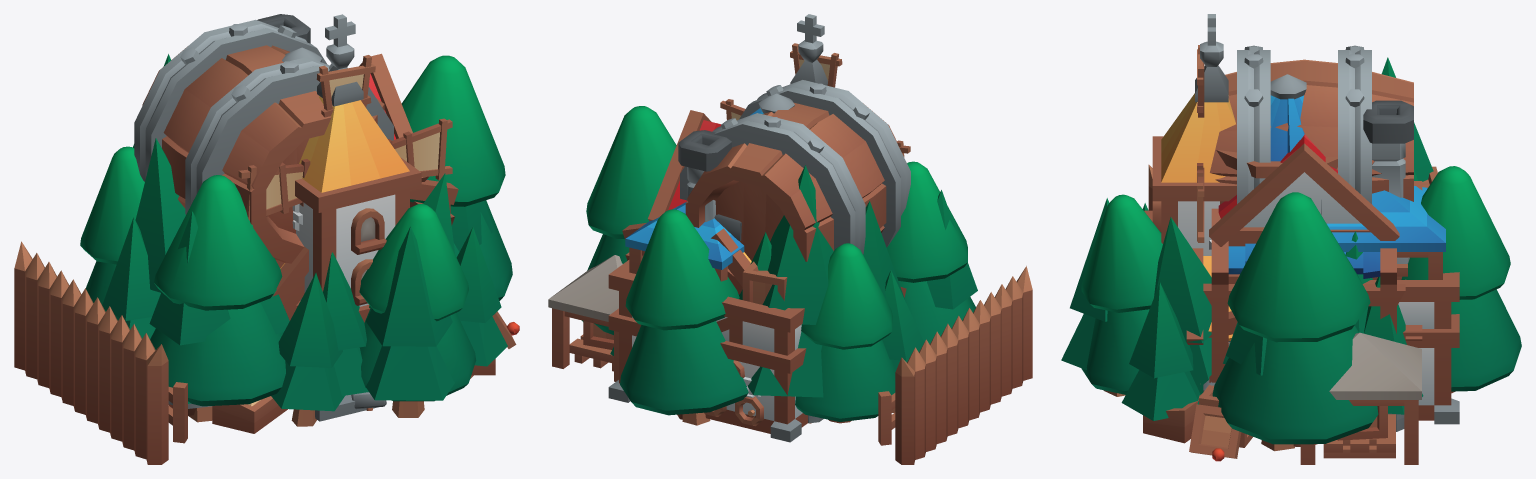
The model's file is village.glb.
3 views of the same model, side by side, from view 1: azimuth 30°, elevation 25°; view 2: azimuth 150°, elevation 25°; view 3: azimuth 270°, elevation 25° (orthographic). The views are drawn at different scales.
Visible parts, largest first — view 1: trees_B_medium, building_tavern_blue, trees_A_medium, fence_wood_straight, building_church_yellow, trees_A_small, building_windmill_top_fan_blue, building_market_blue, building_home_B_red; view 2: trees_B_medium, building_tavern_blue, building_market_blue, fence_wood_straight, trees_A_medium, building_home_B_red, building_church_yellow, trees_A_small, building_windmill_top_fan_blue, building_windmill_top_blue; view 3: trees_B_medium, building_market_blue, building_tavern_blue, building_home_B_red, trees_A_medium, building_church_yellow, trees_A_small, building_windmill_top_blue, building_windmill_top_fan_blue.
Part boxes in pixels (box(x1,y1,x2,y2)): trees_B_medium: box(80, 55, 512, 406); building_tavern_blue: box(134, 19, 458, 421); trees_A_medium: box(102, 54, 507, 426); fence_wood_straight: box(14, 241, 168, 464); building_church_yellow: box(273, 14, 421, 322); trees_A_small: box(135, 138, 454, 395); building_windmill_top_fan_blue: box(238, 55, 452, 225); building_market_blue: box(168, 311, 519, 443); building_home_B_red: box(257, 14, 428, 216); trees_B_medium: box(582, 106, 975, 423); building_tavern_blue: box(622, 80, 910, 426); building_market_blue: box(548, 202, 895, 445); fence_wood_straight: box(895, 266, 1032, 464); trees_A_medium: box(610, 165, 977, 425); building_home_B_red: box(648, 110, 731, 221); building_church_yellow: box(711, 14, 827, 286); trees_A_small: box(738, 201, 905, 301); building_windmill_top_fan_blue: box(720, 43, 910, 157); building_windmill_top_blue: box(750, 93, 794, 115); trees_B_medium: box(1081, 166, 1521, 446); building_market_blue: box(1143, 166, 1459, 464); building_tavern_blue: box(1203, 45, 1413, 431); building_home_B_red: box(1209, 100, 1413, 283); trees_A_medium: box(1061, 57, 1433, 451); building_church_yellow: box(1144, 14, 1422, 382); trees_A_small: box(1154, 169, 1417, 394); building_windmill_top_blue: box(1216, 74, 1337, 178); building_windmill_top_fan_blue: box(1197, 45, 1204, 242).
Size of the model in its own units: 2.02 by 1.75 by 1.91.
Materials: 1 (1 with a texture image).
